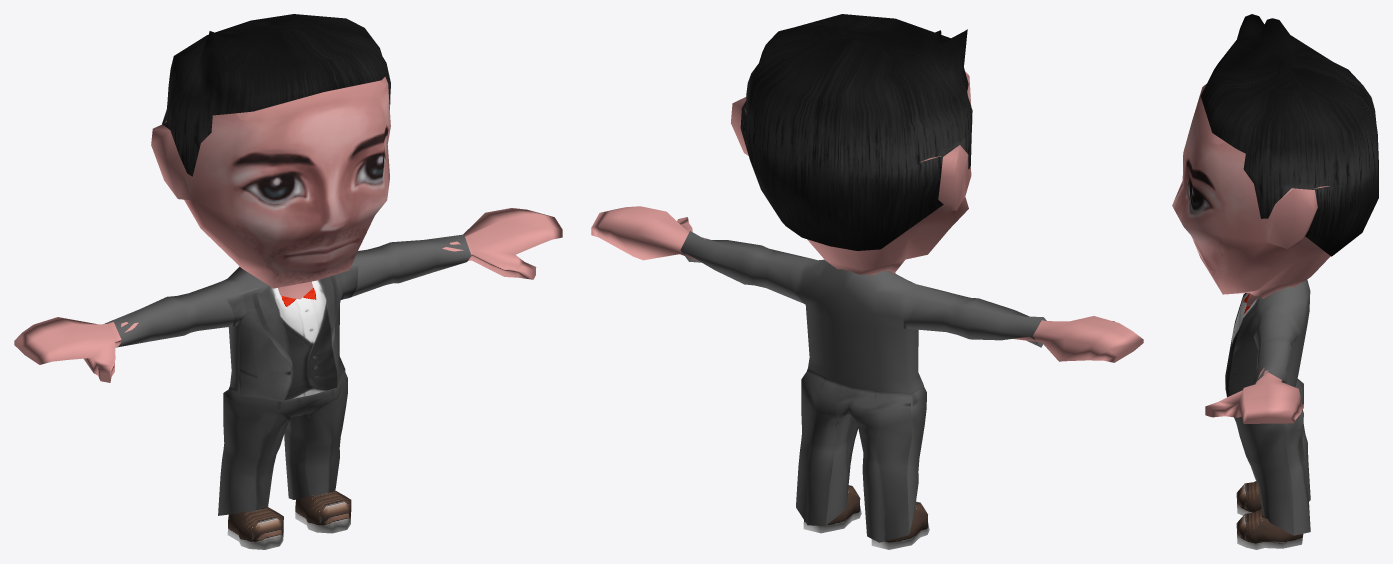
Rendered from mrcool.fbx.
3 renders of one model, left to right at view 1: azimuth 30°, elevation 25°; view 2: azimuth 150°, elevation 25°; view 3: azimuth 270°, elevation 25°, orthographic. The views are drawn at different scales.
Parts seen in each view (by area): view 1: polySurface306; view 2: polySurface306; view 3: polySurface306.
Boxes of the visible parts, <box> form: polySurface306: <box>14,14,562,549</box>; polySurface306: <box>591,14,1143,549</box>; polySurface306: <box>1172,14,1378,549</box>.
Size of the model in its own units: 19.2 by 17.64 by 6.99.
